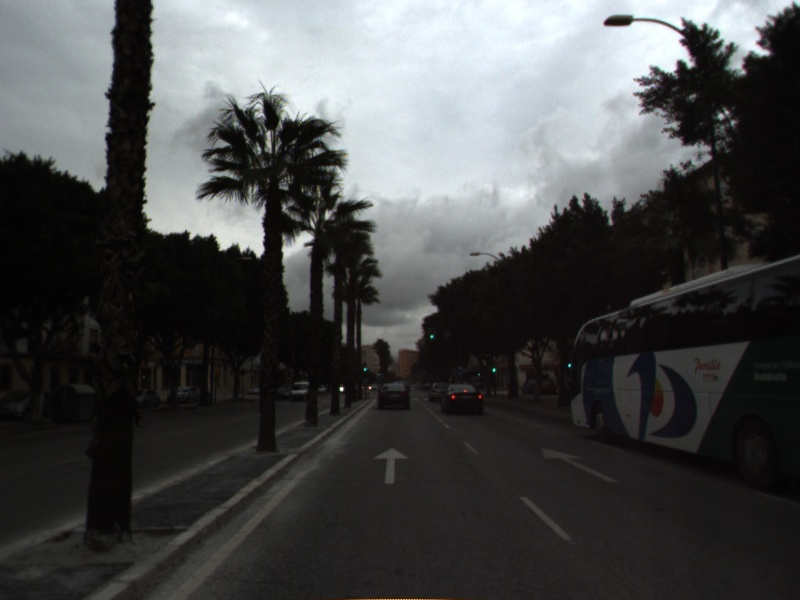STRAIGHT: (539, 446, 622, 485), (371, 445, 412, 485)
